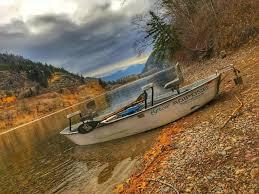fishing boat: (58, 59, 224, 147)
